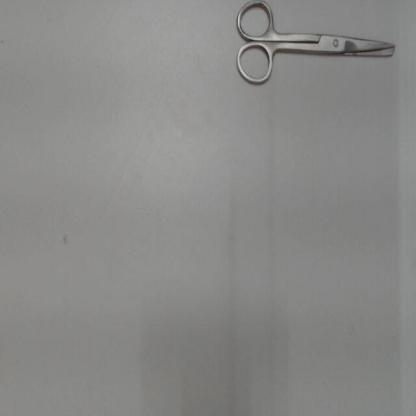Dressing Scissors: (228, 0, 407, 94)
